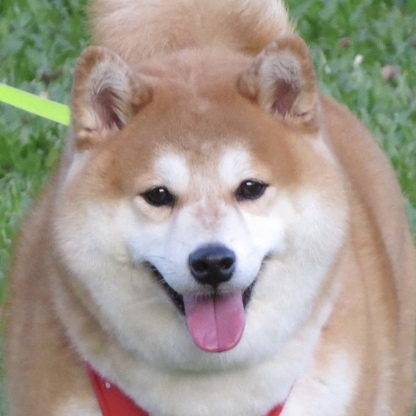shiba: (5, 1, 413, 416)
